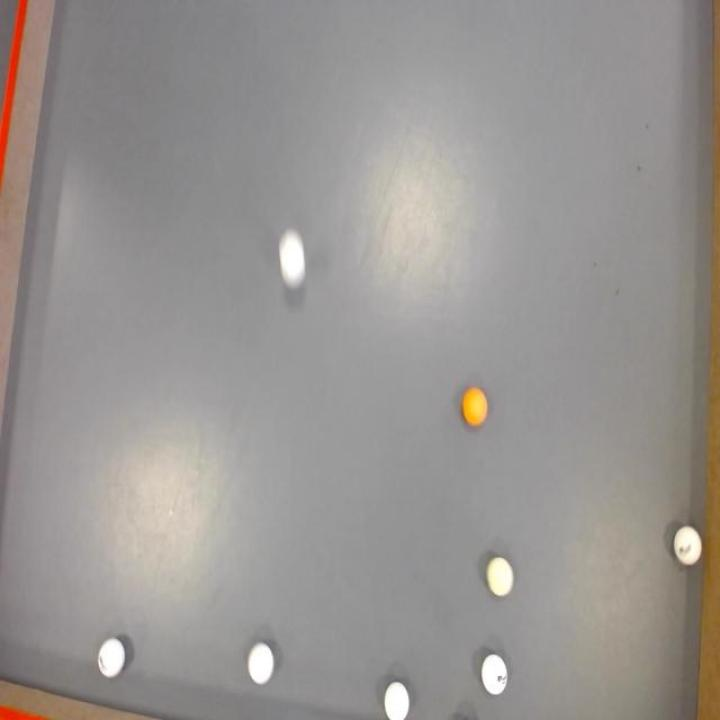orange: (462, 387, 488, 427)
white: (280, 230, 306, 286), (674, 524, 703, 568), (481, 652, 508, 696), (486, 556, 514, 598), (248, 642, 274, 686), (98, 638, 125, 679), (384, 682, 410, 720)
